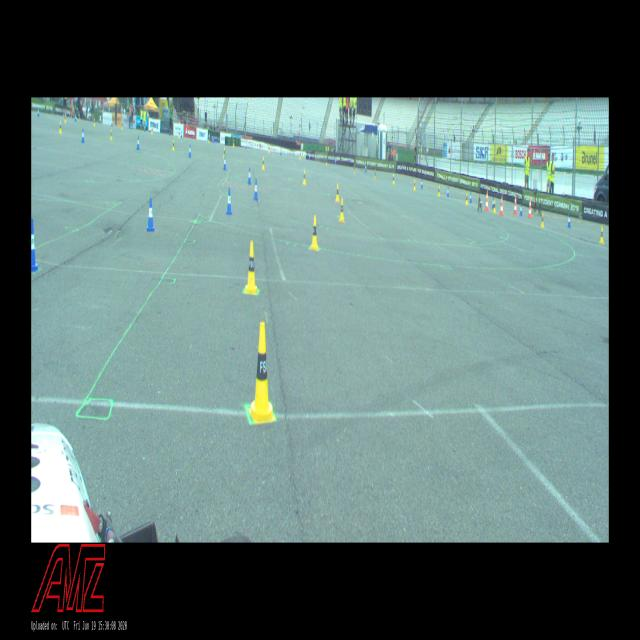blue_cone: (31, 219, 39, 272), (146, 198, 154, 232), (226, 189, 232, 214), (254, 179, 258, 200), (136, 136, 140, 150), (188, 144, 192, 157), (248, 167, 251, 184), (82, 128, 85, 142), (567, 214, 570, 228), (469, 192, 472, 202), (224, 156, 226, 170), (520, 203, 522, 216), (447, 187, 449, 197), (420, 180, 422, 188), (38, 108, 40, 116)
large_orange_cone: (499, 194, 504, 215), (484, 190, 488, 211), (528, 198, 532, 218), (513, 195, 517, 214)
yellow_cone: (249, 322, 275, 424), (244, 241, 258, 294), (310, 215, 318, 250), (339, 198, 345, 222), (336, 184, 340, 202), (600, 227, 604, 243), (303, 170, 306, 185), (541, 213, 544, 227), (262, 156, 265, 170), (59, 121, 62, 134), (465, 192, 468, 205), (493, 200, 496, 213), (172, 140, 175, 150), (110, 128, 112, 140), (438, 185, 440, 197), (414, 179, 416, 190), (392, 174, 394, 184), (208, 134, 210, 144), (374, 170, 376, 179), (354, 164, 356, 173), (268, 145, 270, 153), (121, 122, 123, 130), (178, 131, 180, 138), (65, 114, 66, 123), (94, 117, 95, 126), (224, 147, 225, 154)
